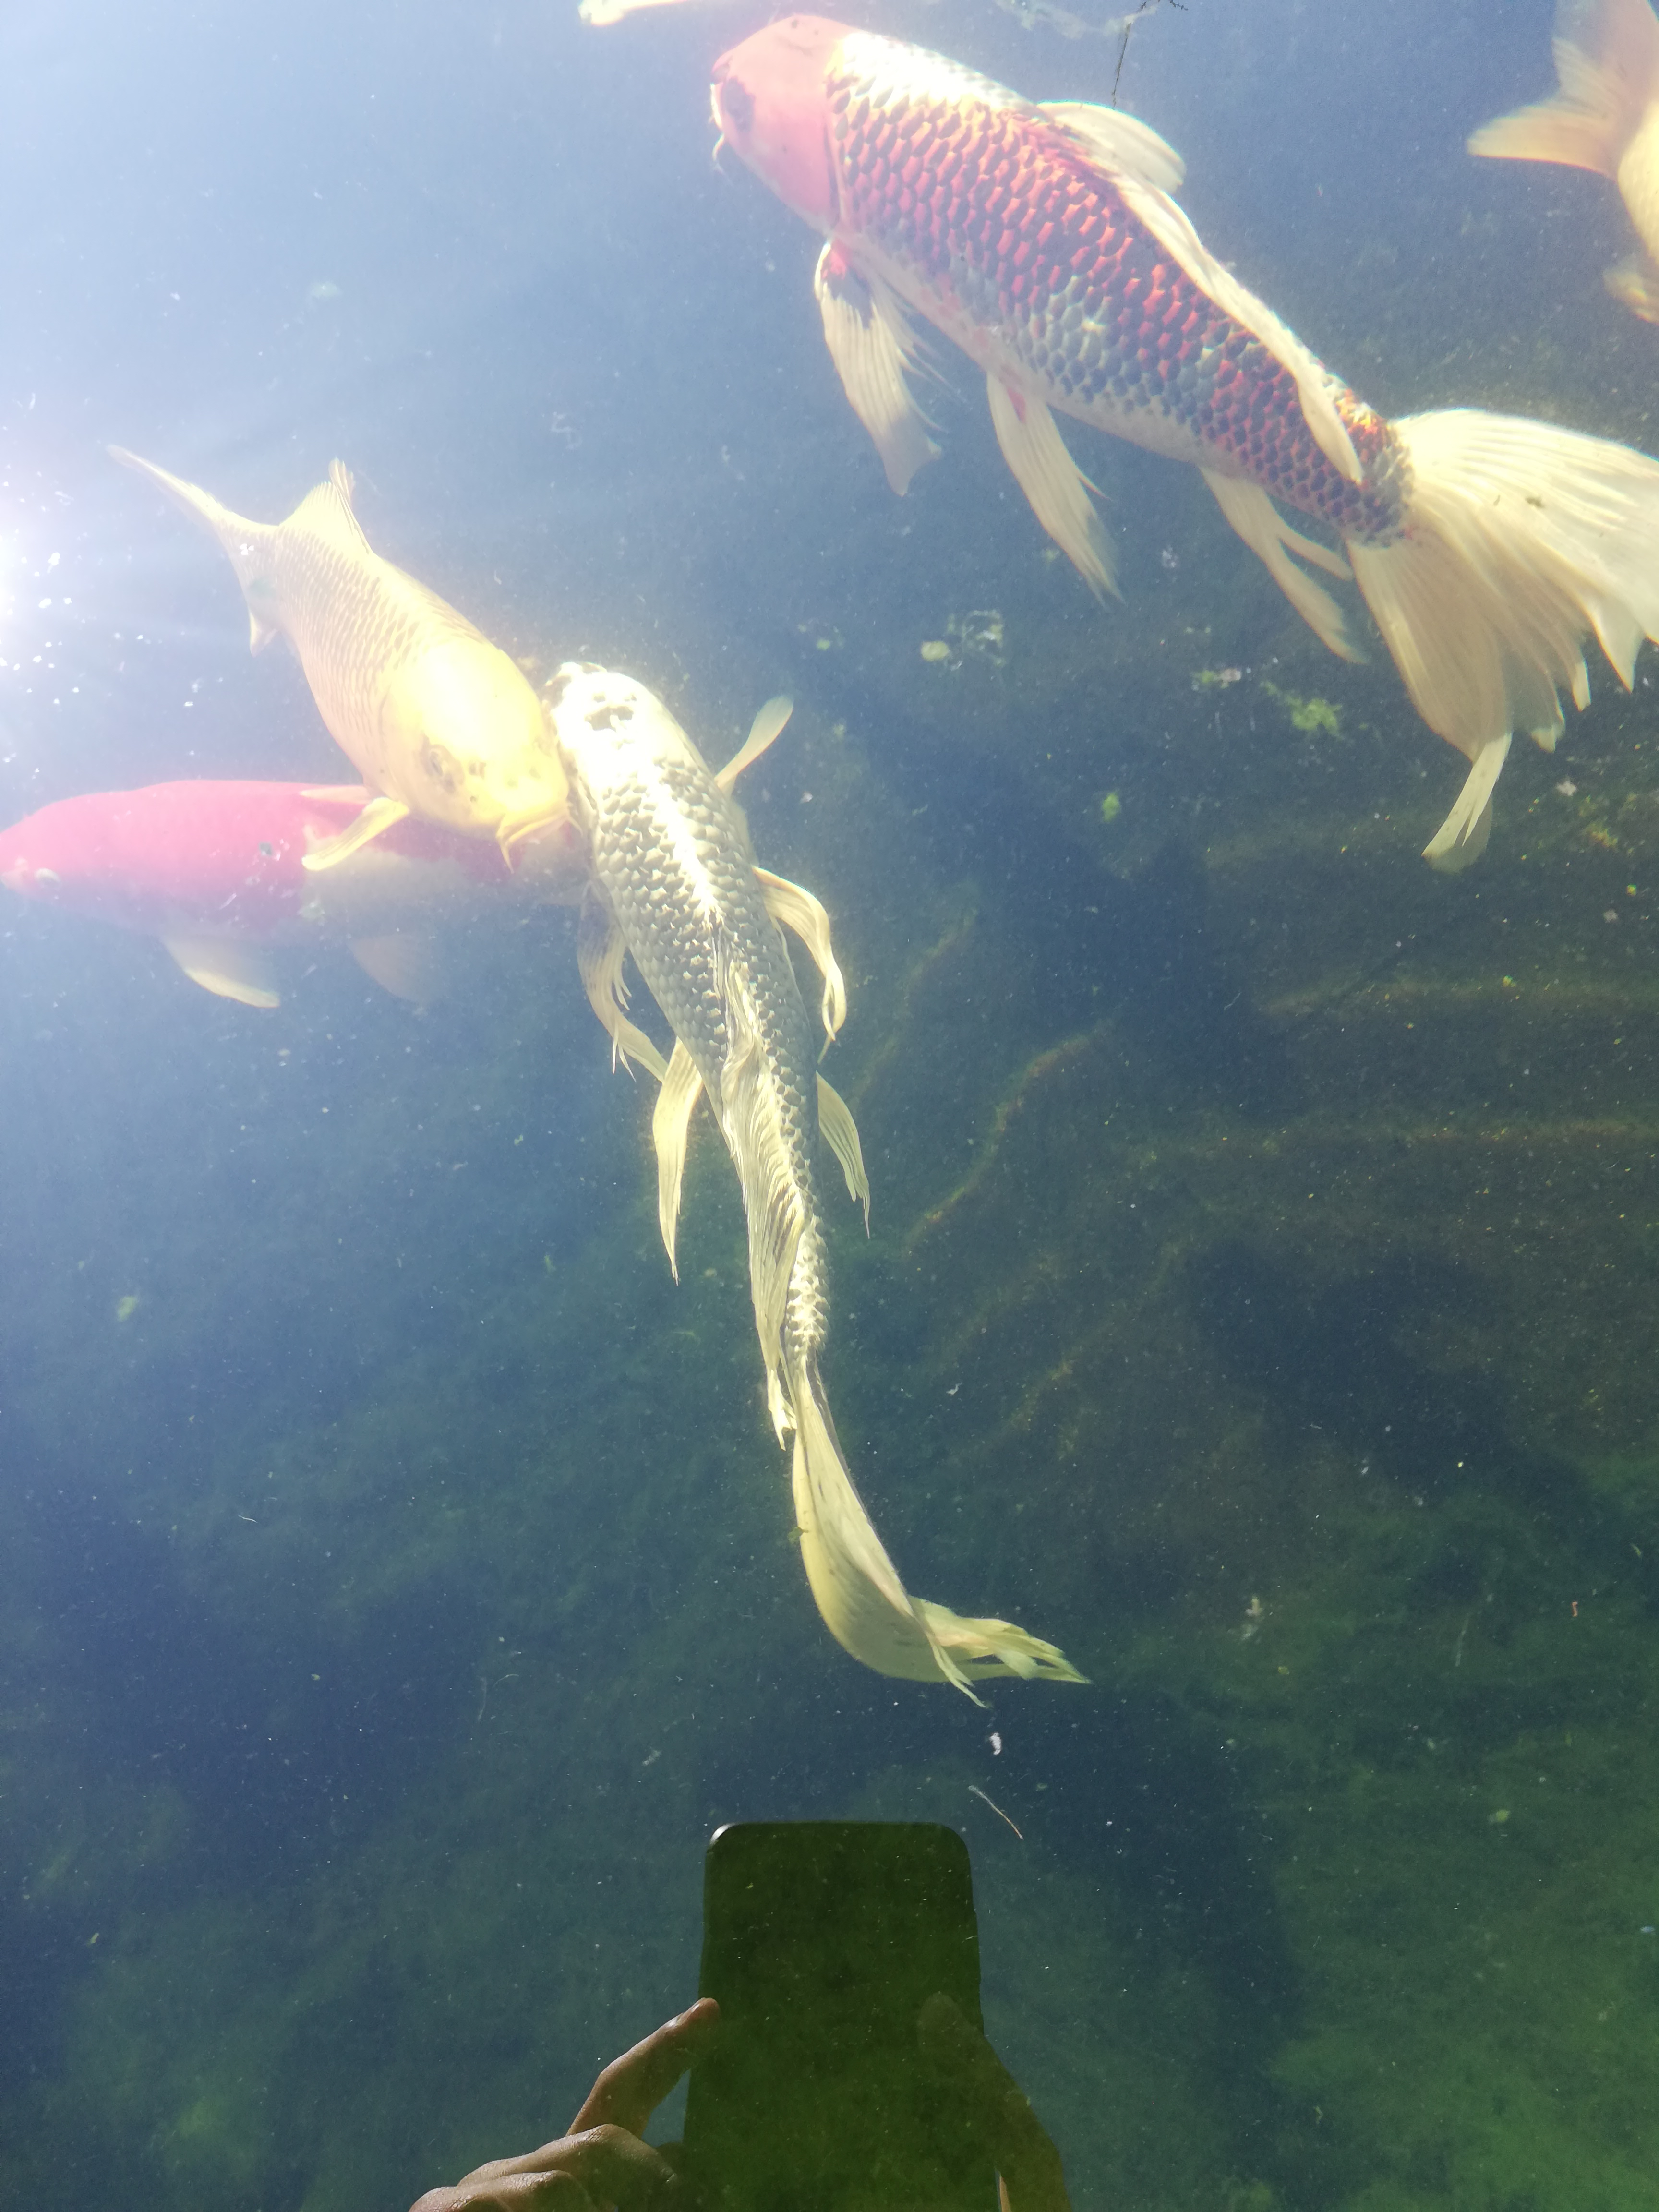Alfred2: (523, 631, 1145, 1752)
Goldie: (117, 437, 566, 871)
